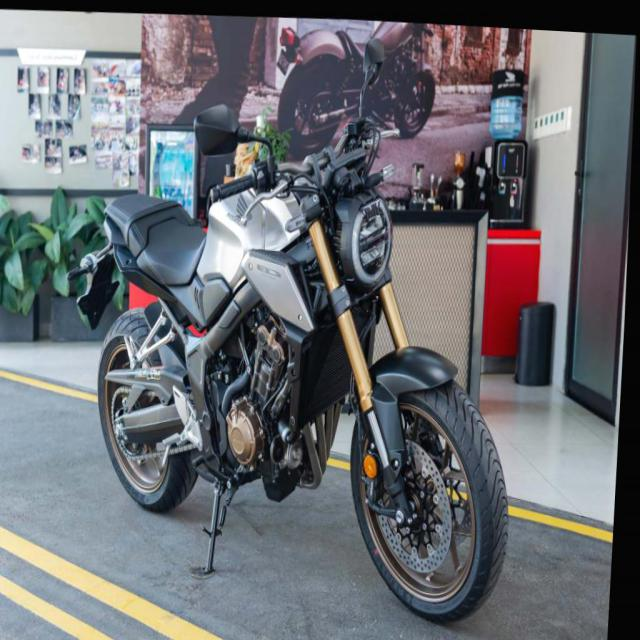CB650R: (77, 119, 532, 630)
